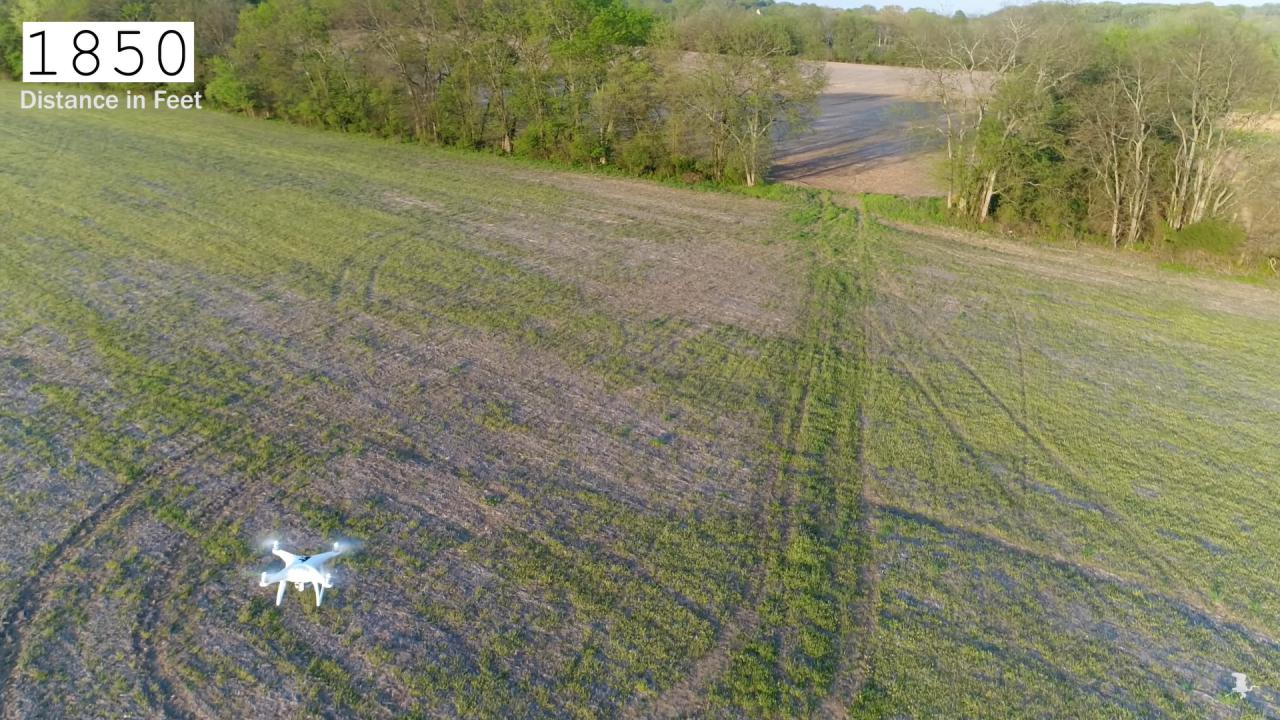Drone: (223, 521, 384, 621)
